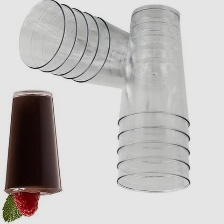glass: (96, 3, 197, 203), (9, 0, 155, 92), (0, 84, 69, 205)
